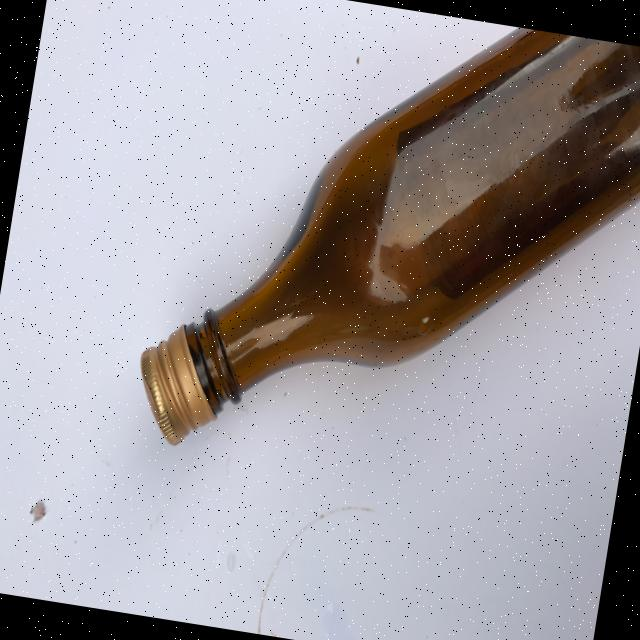glass: (126, 0, 640, 516)
